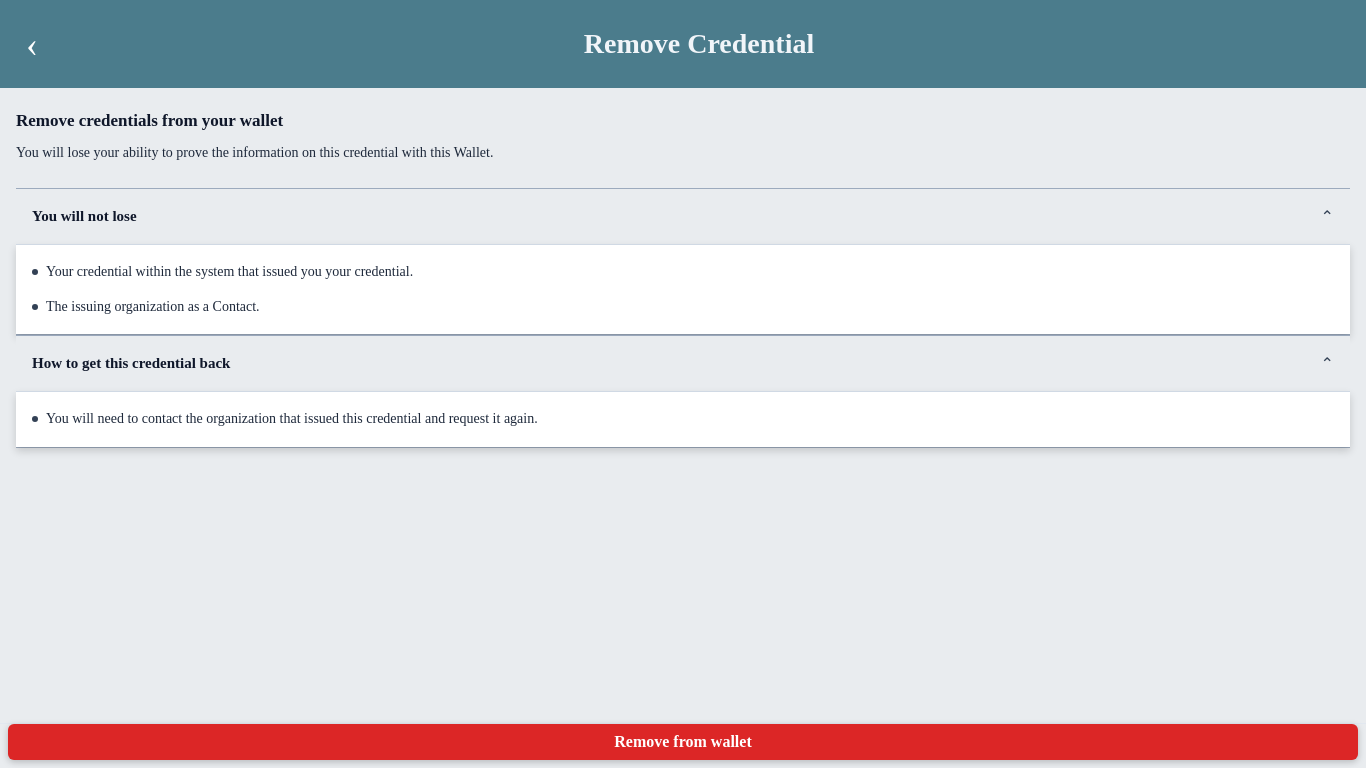
Test case: RemoveCredentialPage › collapses accordion content when section header is clicked again
Click the button "You will not lose ⌃".
click(84, 216)  # box [16,189,1350,244]
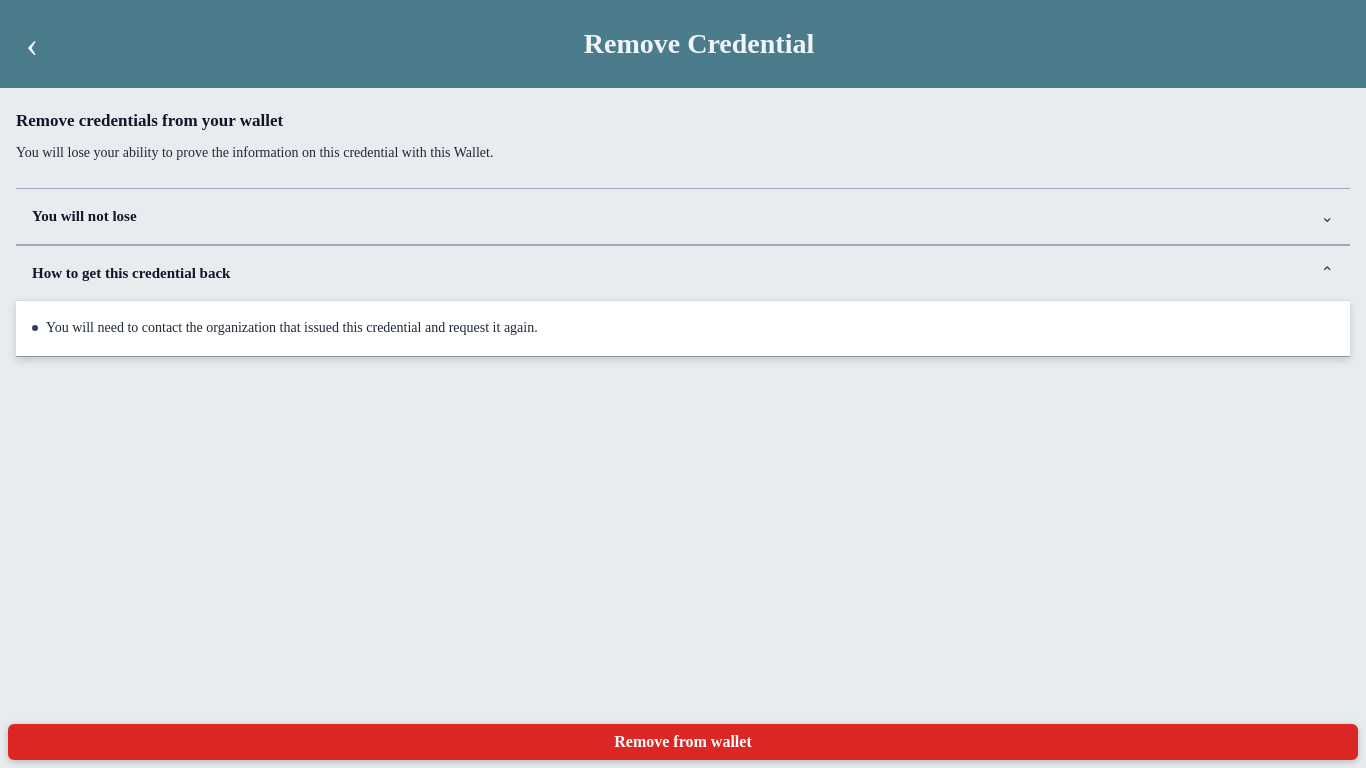
Now the text "Your credential within the system that issued you your credential." is gone
